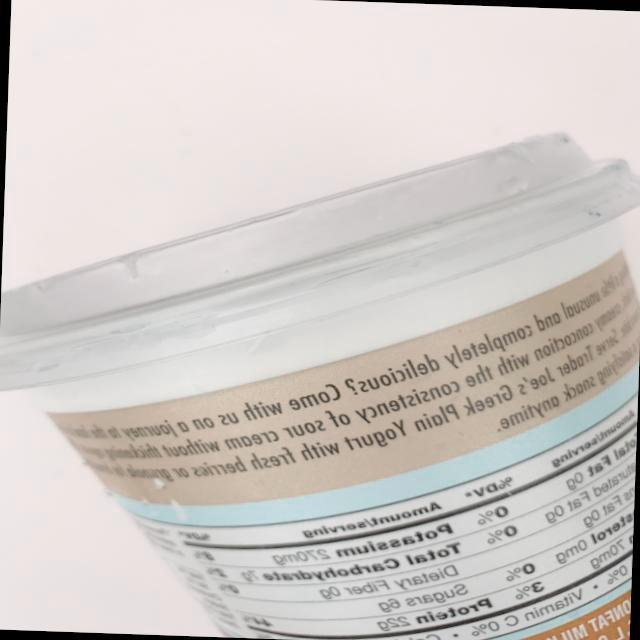plastic: (0, 115, 640, 640)
